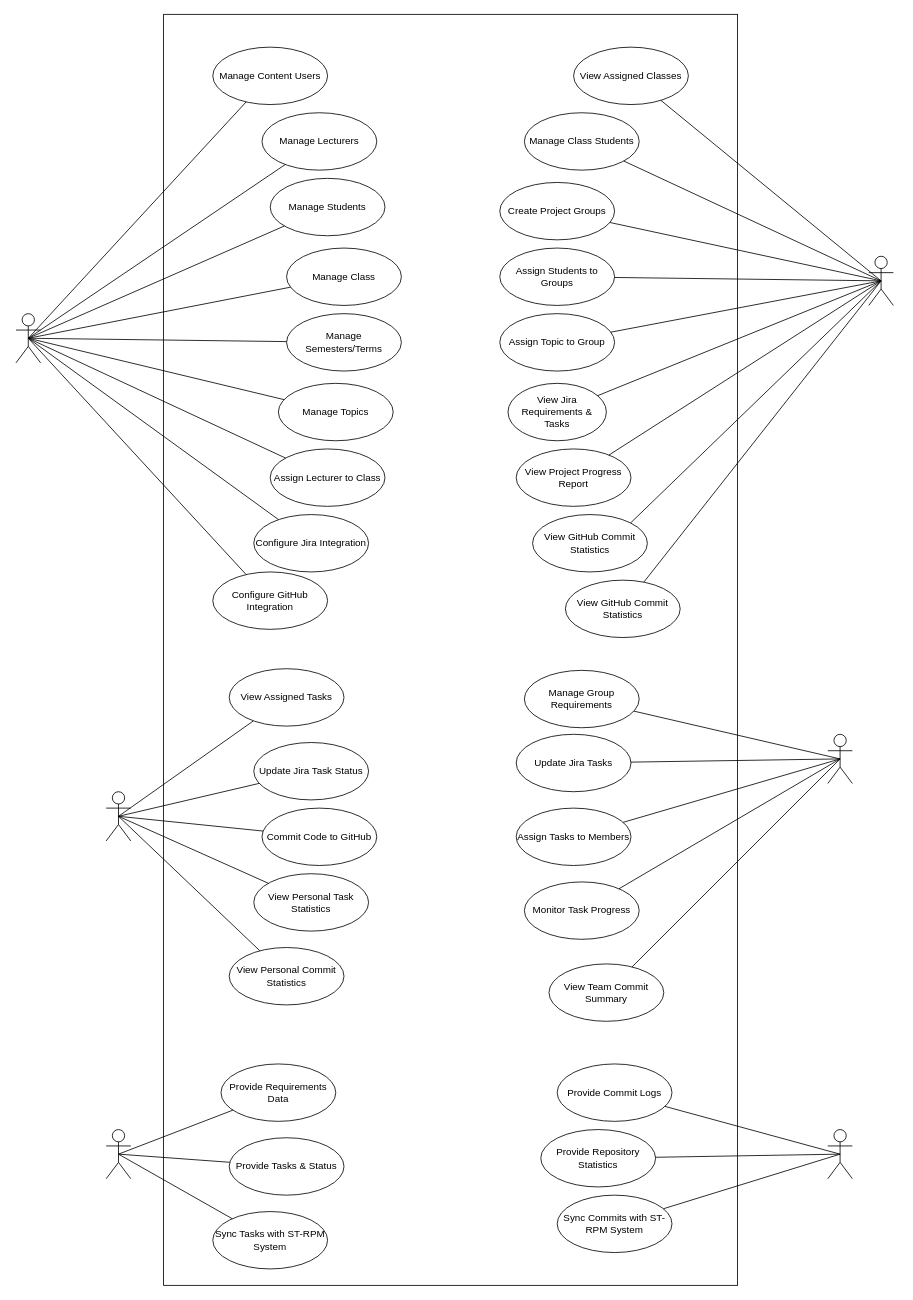
This 913x1300 diagram has some shape labels left out. The centre of each missing label's shape, as x and y in pixels:
"Admin" goes at [28,338].
"GitHub Cloud" goes at [839,1154].
"Jira Cloud" goes at [118,1154].
"Lecturer" goes at [880,280].
"Team Leader" goes at [839,758].
"Team Member" goes at [118,816].
